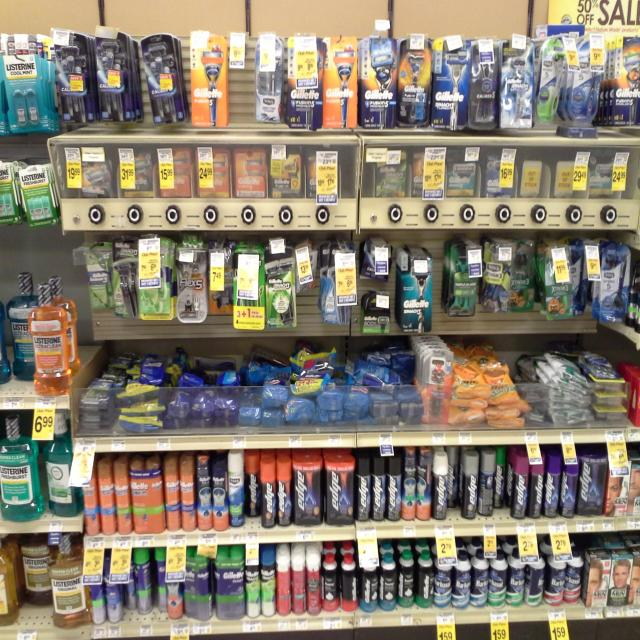empty: (327, 145, 355, 213)
